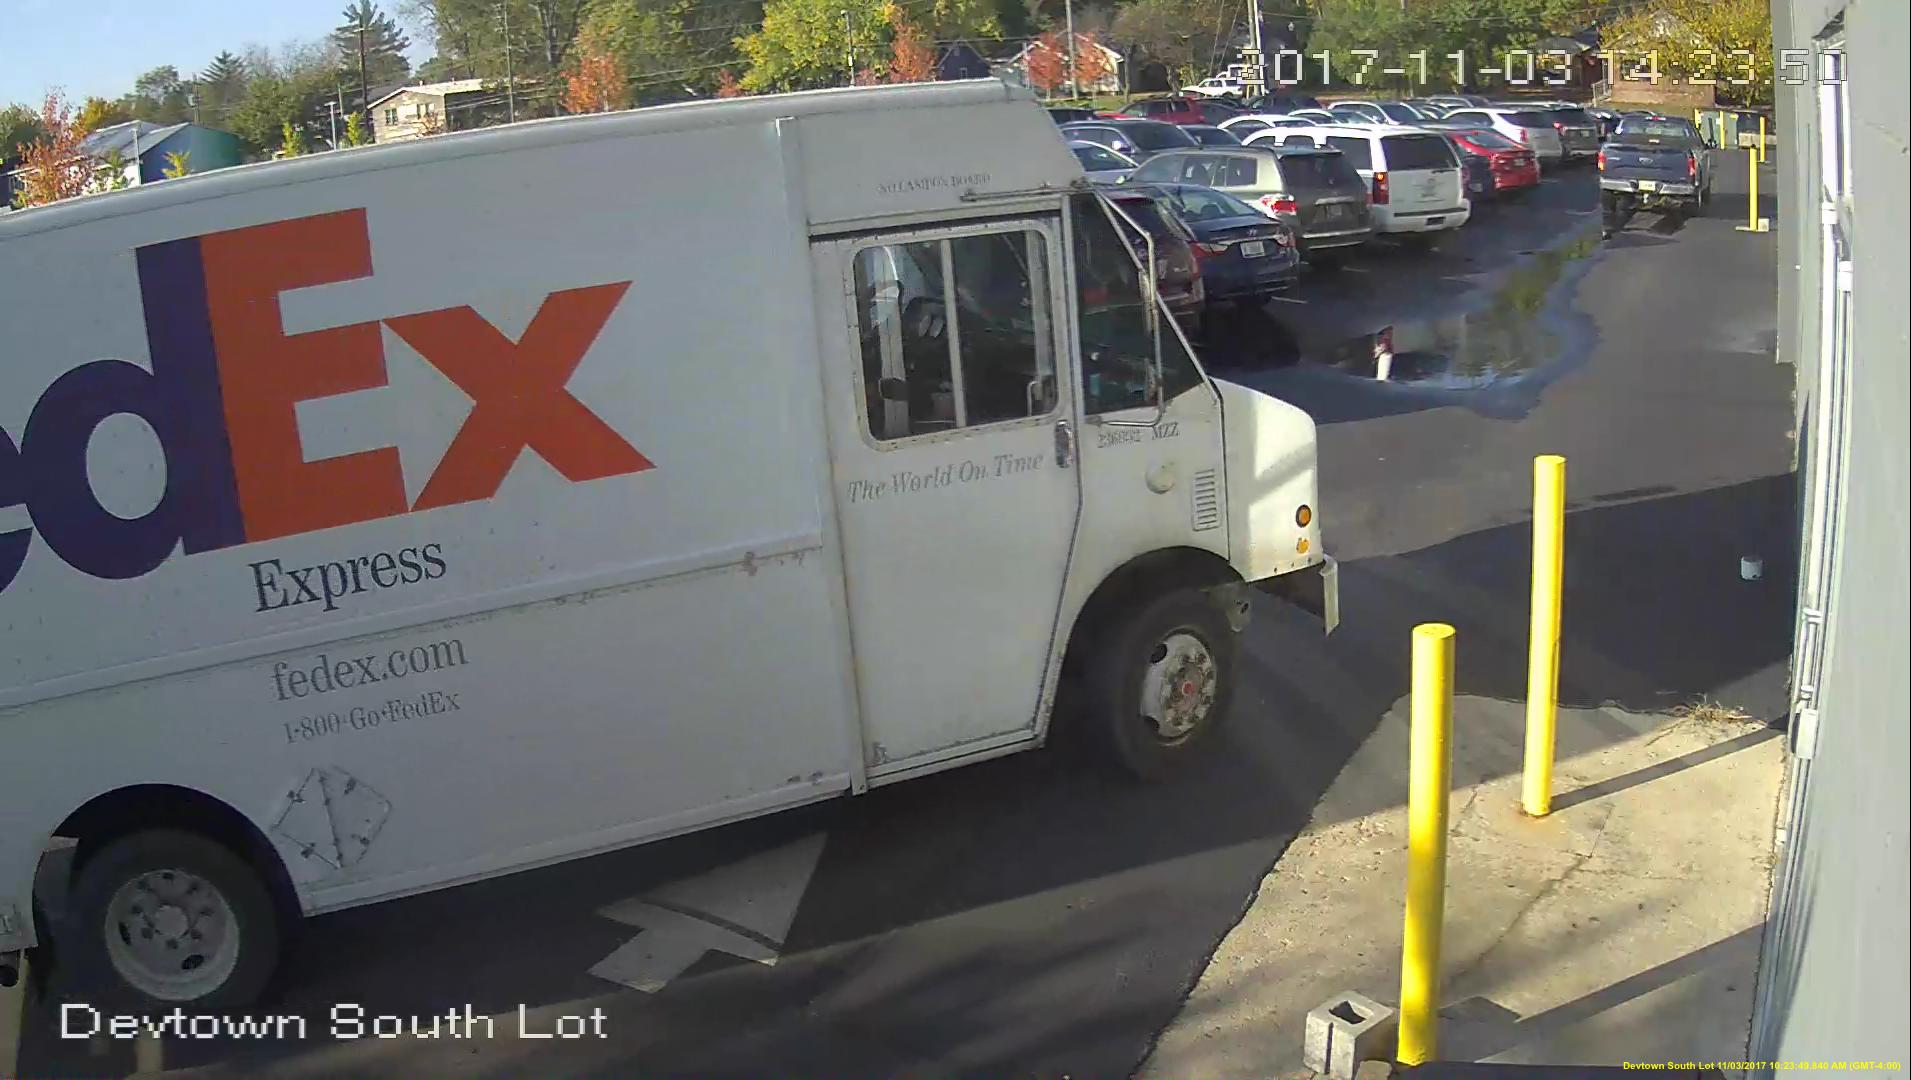fedex_truck: (5, 77, 1353, 980)
